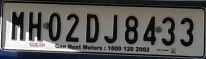character: (160, 15, 176, 47), (84, 12, 100, 43), (102, 13, 118, 44), (10, 9, 25, 41), (142, 14, 157, 46), (64, 12, 79, 43), (179, 16, 194, 47), (123, 15, 139, 44), (47, 11, 61, 41), (28, 10, 41, 42)
